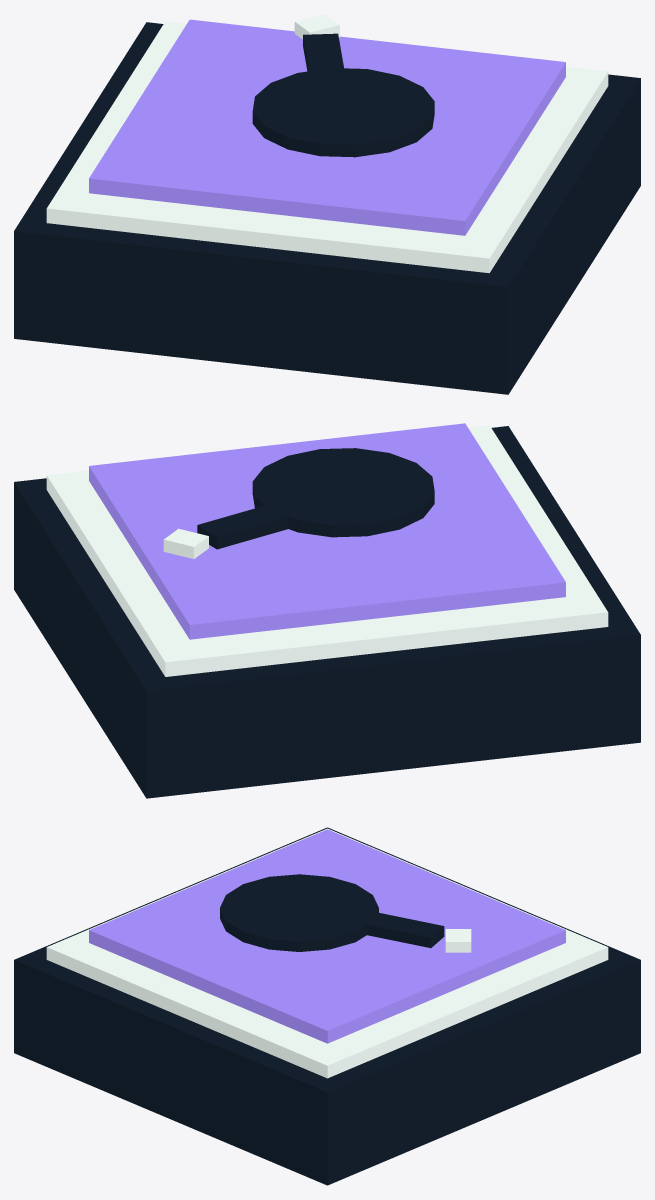
File: pickup-bomb.glb
3 renders of one model, top to bottom at view 1: azimuth 30°, elevation 25°; view 2: azimuth 150°, elevation 25°; view 3: azimuth 270°, elevation 25°, orthographic. The views are drawn at different scales.
Visible parts, largest first — view 1: pickup-bomb-pickup-bomb-geometry; view 2: pickup-bomb-pickup-bomb-geometry; view 3: pickup-bomb-pickup-bomb-geometry.
Boxes of the visible parts, x1,y1,x2,y2 form: pickup-bomb-pickup-bomb-geometry: (14,14,640,394); pickup-bomb-pickup-bomb-geometry: (14,423,640,798); pickup-bomb-pickup-bomb-geometry: (14,827,640,1185).
Size of the model in its own units: 1.34 by 0.3425 by 1.34.
